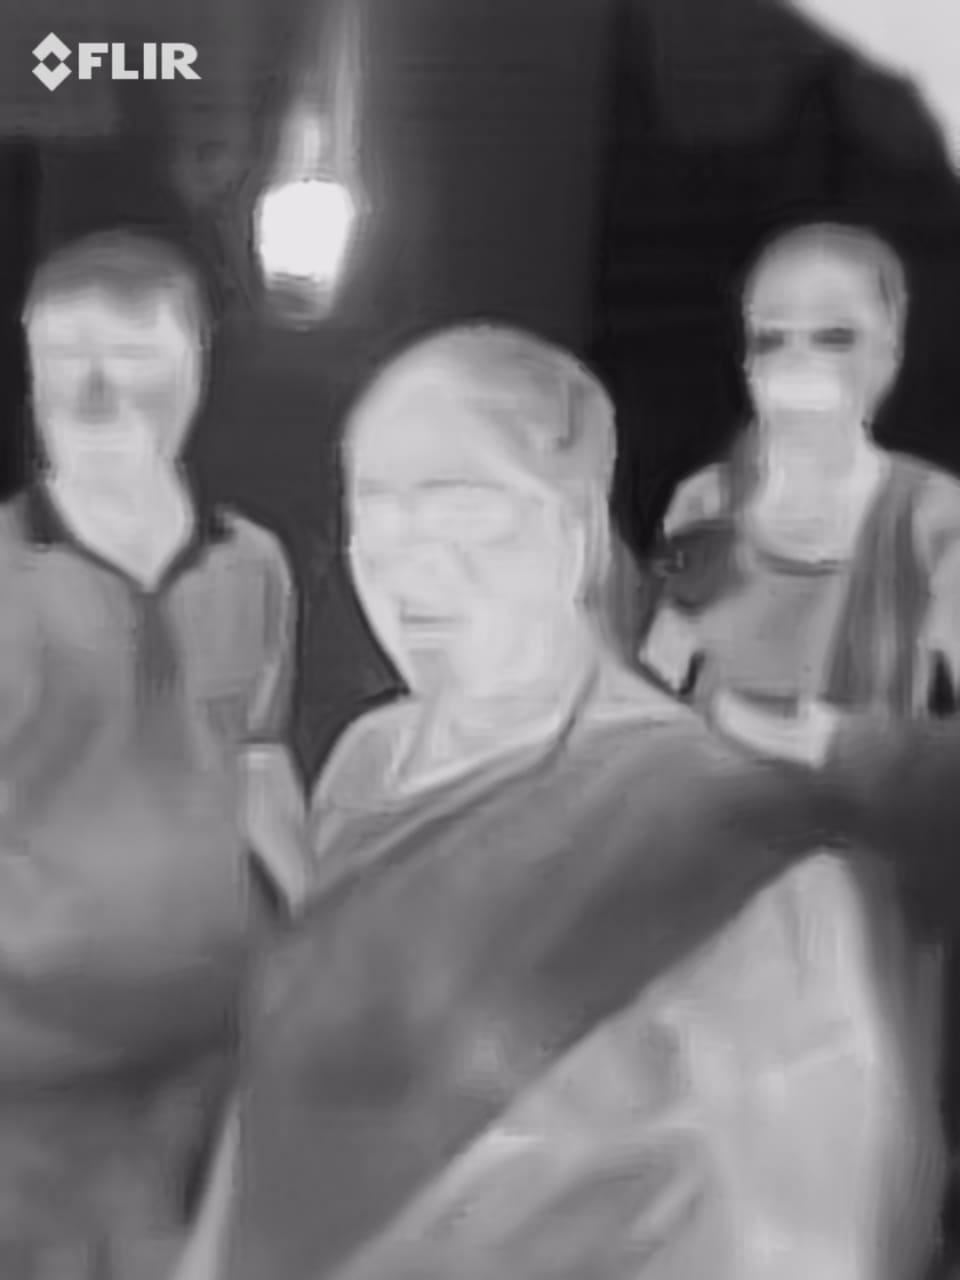head: (326, 325, 633, 731), (22, 229, 221, 511), (728, 208, 910, 484)
